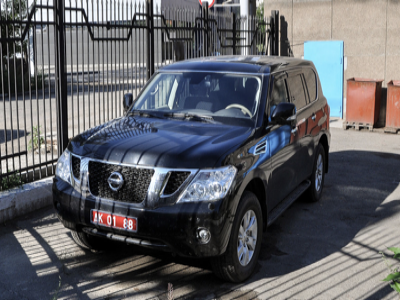licence: (91, 210, 137, 234)
